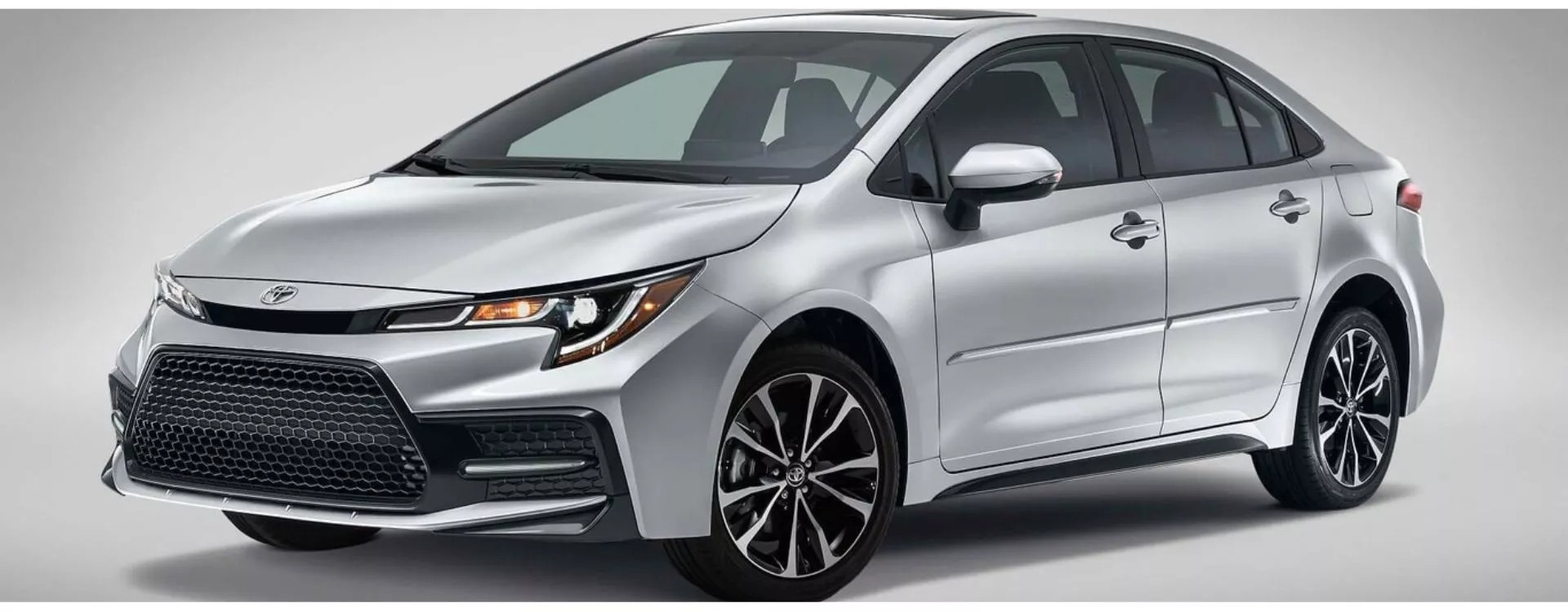car: (95, 7, 1499, 596)
